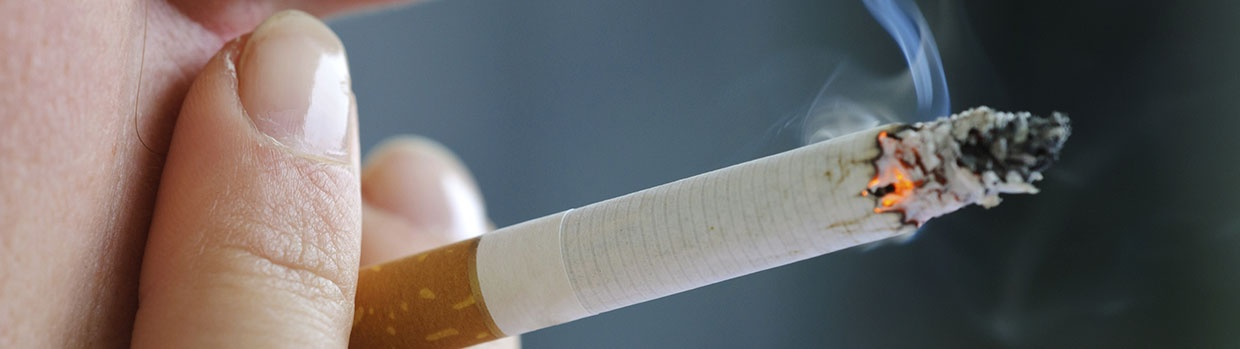sigaretta: (346, 86, 1050, 347)
